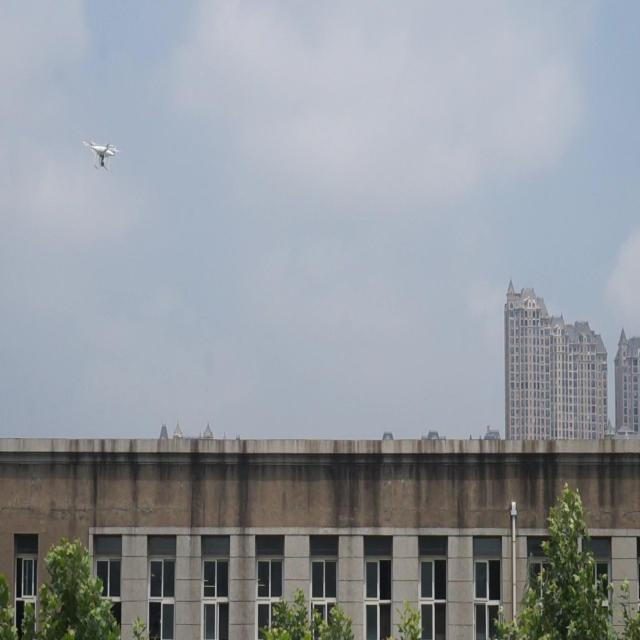drone: (82, 135, 122, 179)
